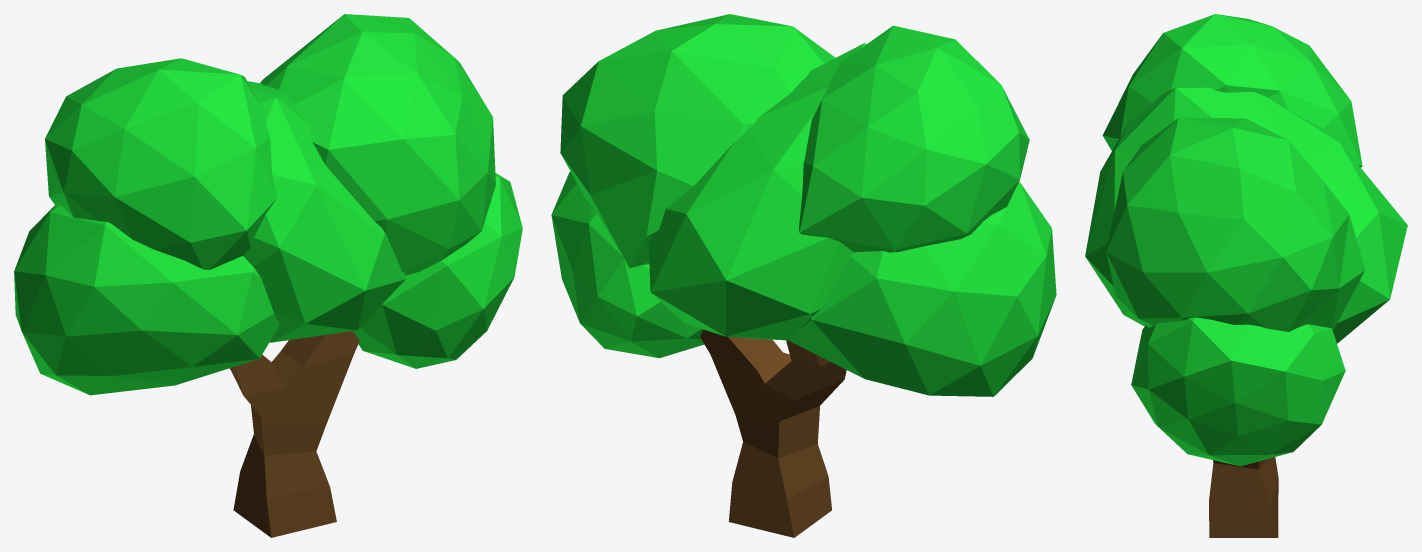
The model's file is tree_round.fbx.
3 renders of one model, left to right at view 1: azimuth 30°, elevation 25°; view 2: azimuth 150°, elevation 25°; view 3: azimuth 270°, elevation 25°, orthographic. The views are drawn at different scales.
Parts seen in each view (by area): view 1: OakTree1; view 2: OakTree1; view 3: OakTree1.
Part boxes in pixels (x1,y1,x2,y2): OakTree1: (14,14,522,537); OakTree1: (551,14,1056,537); OakTree1: (1085,14,1407,537).
Bounding box in the file's own units: 976 × 959 × 628.
